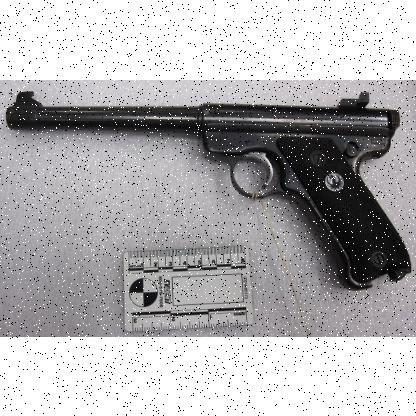gun: (6, 90, 412, 290)
